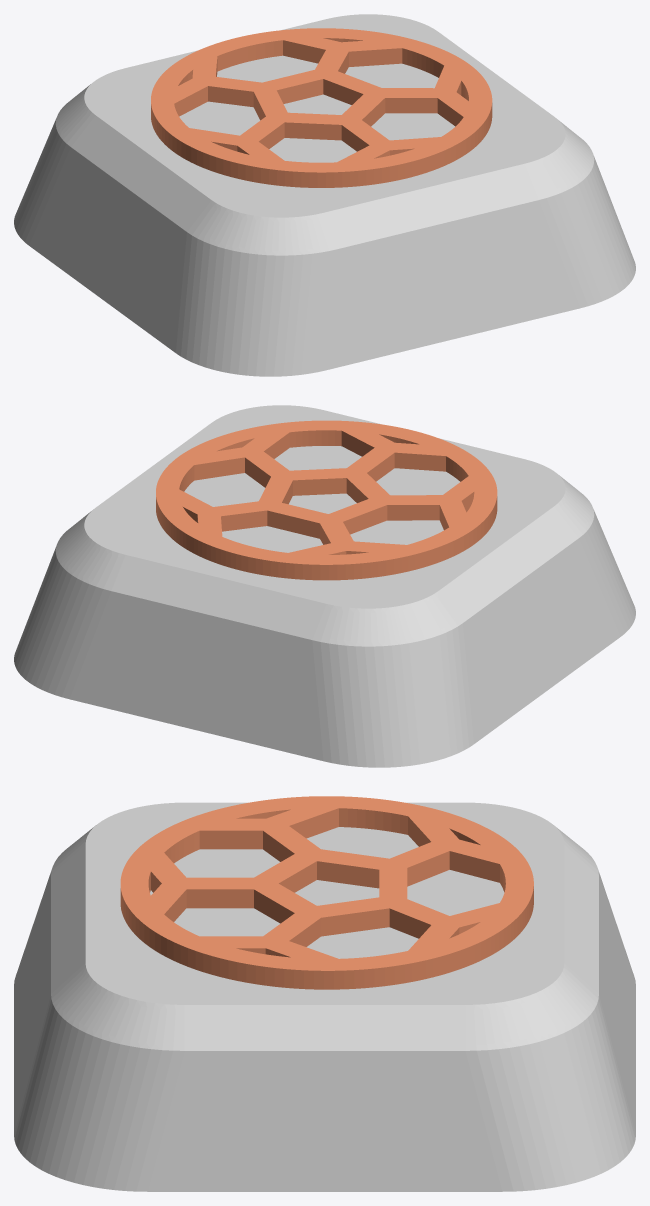
File: cap-soccer.glb
3 views of the same model, one above another, from view 1: azimuth 30°, elevation 25°; view 2: azimuth 150°, elevation 25°; view 3: azimuth 270°, elevation 25° (orthographic). The views are drawn at different scales.
Parts seen in each view (by area): view 1: cap_0, glyph_1; view 2: cap_0, glyph_1; view 3: cap_0, glyph_1.
Part boxes in pixels (bbox=[...]): cap_0: bbox=[14, 14, 635, 376]; glyph_1: bbox=[151, 28, 492, 187]; cap_0: bbox=[14, 405, 635, 767]; glyph_1: bbox=[156, 420, 497, 580]; cap_0: bbox=[14, 802, 635, 1191]; glyph_1: bbox=[120, 796, 533, 989].
Bounding box in the file's own units: 18 × 5.6 × 18.
